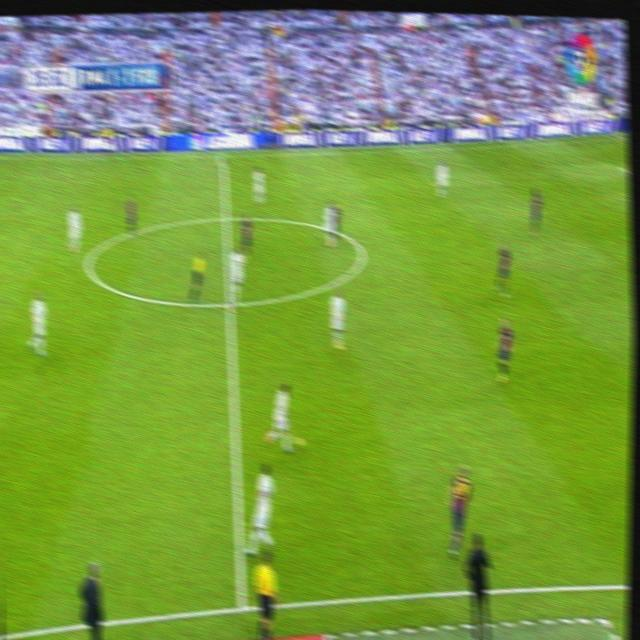halfcircle_bottom: (222, 289, 238, 319)
halfcircle_top: (218, 205, 234, 230)
midline_bottom_intersection: (231, 586, 253, 619)
midline_top_intersection: (217, 148, 229, 164)
